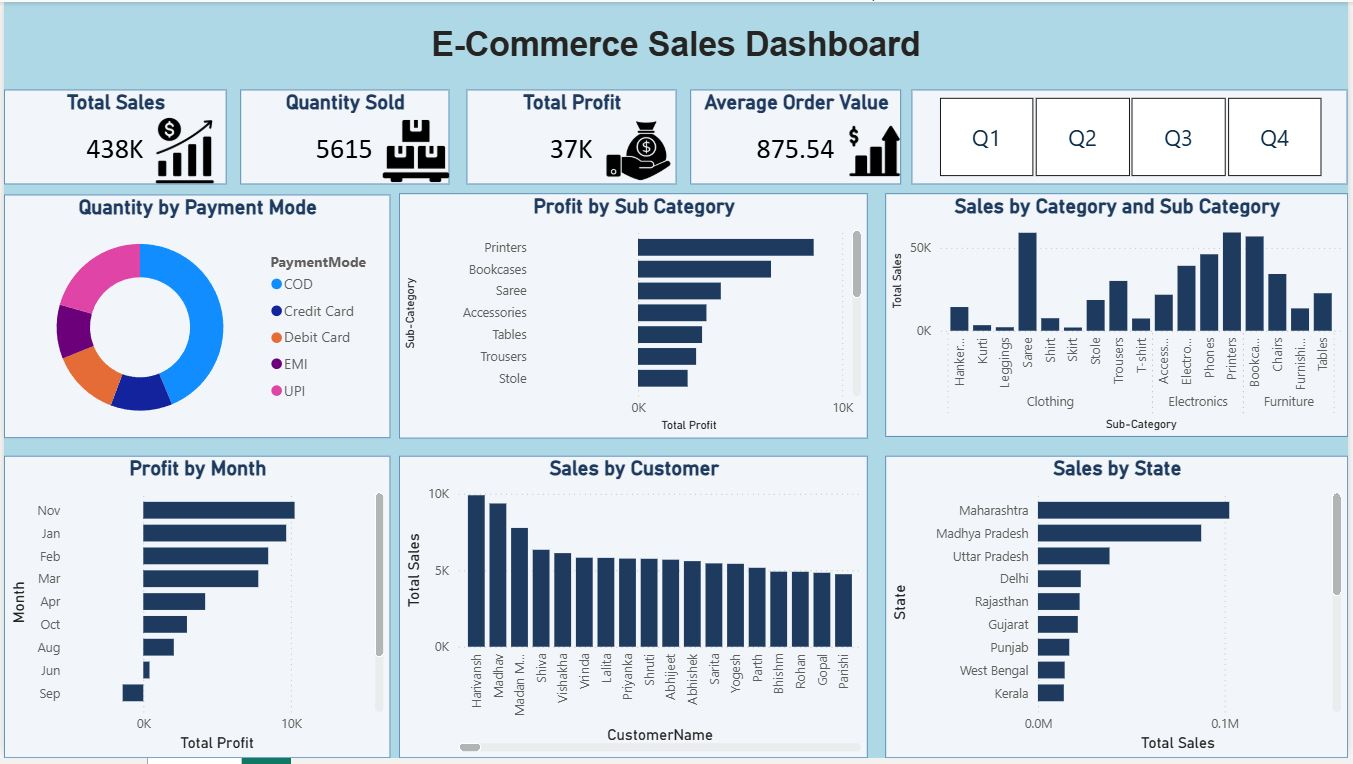

This screenshot's page, from the dashboard's own definition file:
{"tool":"powerbi","page":{"name":"Page 1","canvas":[1280,720],"ordinal":0},"visuals":[{"type":"textbox","box":[0,0,1279.8,67.9],"z":0},{"type":"card","title":"Total Sales","fields":{"Values":["All_Measues.Total Sales"]},"box":[0,83.3,211.9,90.5],"z":1000},{"type":"card","title":"Quantity Sold","fields":{"Values":["All_Measues.Quantity_Sold"]},"box":[225,83.3,198.8,90.5],"z":2000},{"type":"card","title":"Total Profit","fields":{"Values":["All_Measues.Total Profit"]},"box":[440.5,83.3,200,90.5],"z":3000},{"type":"card","title":"Average Order Value ","fields":{"Values":["All_Measues.AOV"]},"box":[653.6,83.3,201.2,90.5],"z":4000},{"type":"slicer","title":"Quantity Sold","fields":{"Values":["Calender_table.Od_quarter"]},"box":[864.3,83.3,415.5,90.5],"z":5000},{"type":"clusteredBarChart","title":"Profit by Month","fields":{"Category":["Calender_table.Od_Month"],"Y":["All_Measues.Total Profit"]},"box":[0,432.1,367.9,288.1],"z":6000},{"type":"barChart","title":"Sales by State ","fields":{"Category":["Orders (1).State"],"Y":["All_Measues.Total Sales"]},"box":[839.3,432.1,440.5,288.1],"z":7000},{"type":"donutChart","title":"Quantity by Payment Mode","fields":{"Y":["All_Measues.Quantity_Sold"],"Series":["Details.PaymentMode"]},"box":[0,183.3,367.9,232.1],"z":8000},{"type":"columnChart","title":"Sales by Customer","fields":{"Category":["Orders (1).CustomerName"],"Y":["All_Measues.Total Sales"]},"box":[376.2,432.1,446.4,288.1],"z":9000},{"type":"barChart","title":"Profit by Sub Category","fields":{"Category":["Details.Sub-Category"],"Y":["All_Measues.Total Profit"]},"box":[376.2,182.1,446.4,233.3],"z":10000},{"type":"clusteredColumnChart","title":"Sales by Category and Sub Category","fields":{"Y":["All_Measues.Total Sales"],"Category":["Details.Category","Details.Sub-Category"]},"box":[839.3,182.1,440.5,232.1],"z":11000},{"type":"image","box":[803.6,110.7,51.2,63.1],"z":11001},{"type":"image","box":[360.7,109.5,63.1,65.5],"z":11002},{"type":"image","box":[132.1,109.5,79.8,64.3],"z":11003},{"type":"image","box":[567.9,106,72.6,73.8],"z":11004}]}

Visuals, with their boxes in screenshot pixels (x1, y1, x2, y2), scaled from the page's 1280x720 canvas onto the 1353x764 screenshot:
textbox: rect(0, 0, 1352, 72)
"Total Sales" card: rect(0, 88, 224, 184)
"Quantity Sold" card: rect(238, 88, 448, 184)
"Total Profit" card: rect(466, 88, 677, 184)
"Average Order Value " card: rect(691, 88, 904, 184)
"Quantity Sold" slicer: rect(914, 88, 1352, 184)
"Profit by Month" clusteredBarChart: rect(0, 459, 389, 763)
"Sales by State " barChart: rect(887, 459, 1352, 763)
"Quantity by Payment Mode" donutChart: rect(0, 195, 389, 441)
"Sales by Customer" columnChart: rect(398, 459, 870, 763)
"Profit by Sub Category" barChart: rect(398, 193, 870, 441)
"Sales by Category and Sub Category" clusteredColumnChart: rect(887, 193, 1352, 440)
image: rect(849, 117, 904, 184)
image: rect(381, 116, 448, 186)
image: rect(140, 116, 224, 184)
image: rect(600, 112, 677, 191)
